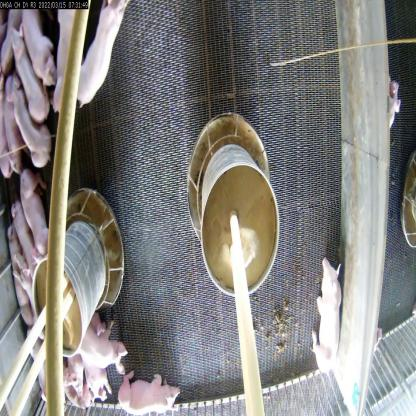Pig: (75, 0, 131, 107), (5, 73, 57, 173), (7, 18, 51, 126), (312, 247, 346, 375), (79, 306, 133, 375), (20, 9, 61, 99), (18, 166, 58, 256), (113, 366, 184, 415), (11, 198, 47, 288), (64, 350, 94, 412)
